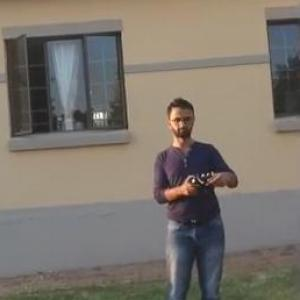follow: (149, 92, 246, 299)
